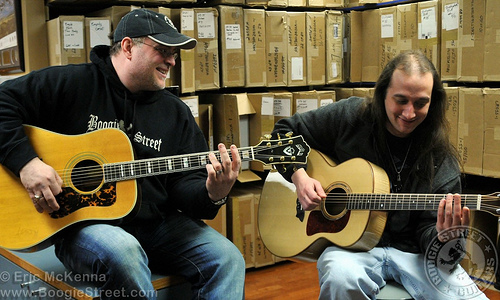guitar: (1, 124, 311, 257), (256, 147, 500, 264)
